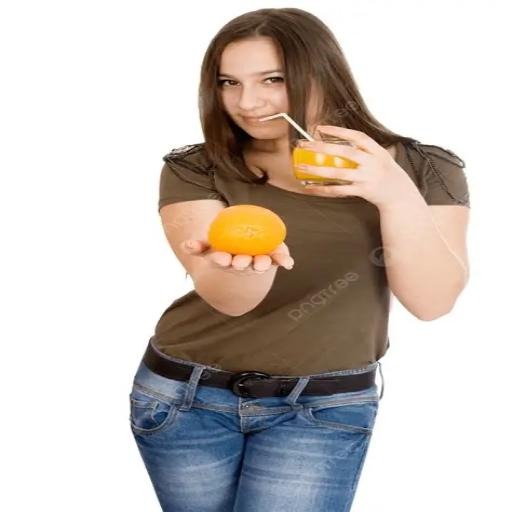orange: (208, 205, 286, 256)
